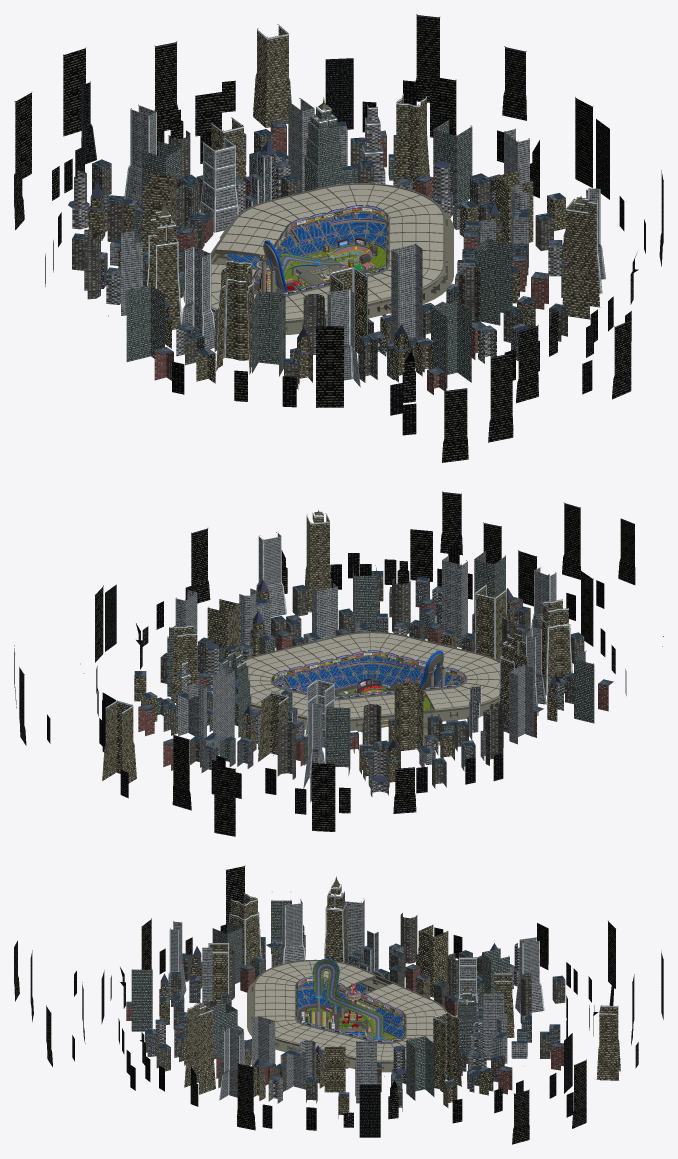
Rendered from track4.glb.
3 renders of one model, top to bottom at view 1: azimuth 30°, elevation 25°; view 2: azimuth 150°, elevation 25°; view 3: azimuth 270°, elevation 25°, orthographic. The views are drawn at different scales.
Parts seen in each view (by area): view 1: Object_24, Object_5, Object_13, Object_34, Object_46, Object_43, Object_37; view 2: Object_24, Object_5, Object_13, Object_34, Object_46, Object_43, Object_37, Object_71, Object_70, Object_38; view 3: Object_24, Object_5, Object_13, Object_34, Object_43, Object_46, Object_64, Object_21, Object_37.
Part boxes in pixels (x1,y1,x2,y2): Object_24: (68,25,605,394); Object_5: (14,15,663,462); Object_13: (211,184,444,320); Object_34: (210,183,445,323); Object_46: (227,211,386,282); Object_43: (183,211,453,334); Object_37: (252,205,387,294); Object_24: (102,510,613,802); Object_5: (14,492,635,836); Object_13: (246,633,499,719); Object_34: (244,632,499,721); Object_46: (275,655,462,691); Object_43: (251,655,498,743); Object_37: (273,650,465,698); Object_71: (280,655,456,691); Object_70: (274,652,464,697); Object_38: (274,661,461,689); Object_24: (126,876,620,1118); Object_5: (14,866,663,1144); Object_13: (255,961,444,1061); Object_34: (253,959,446,1063); Object_43: (247,979,406,1072); Object_46: (297,981,403,1038); Object_64: (315,961,381,1038); Object_21: (313,959,394,1039); Object_37: (296,976,404,1042).
Size of what is drawn, in the model's own units: 632 by 143 by 796.
Materials: 67 (62 with a texture image).
